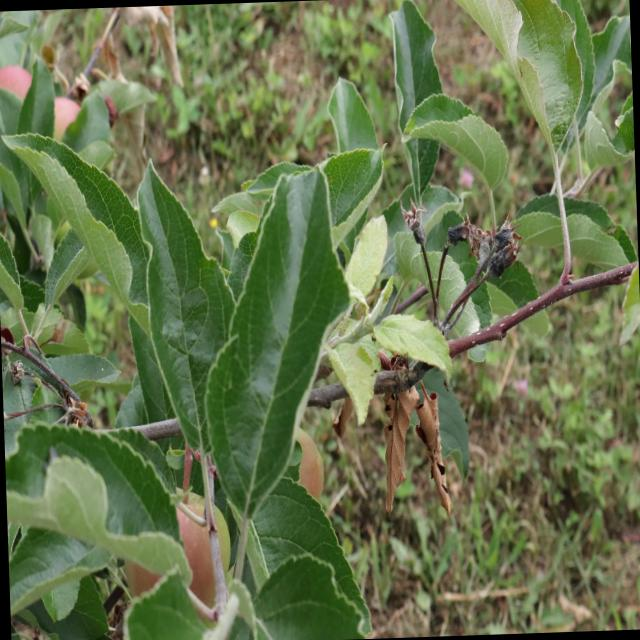-FireBlight-: (380, 366, 460, 524)
